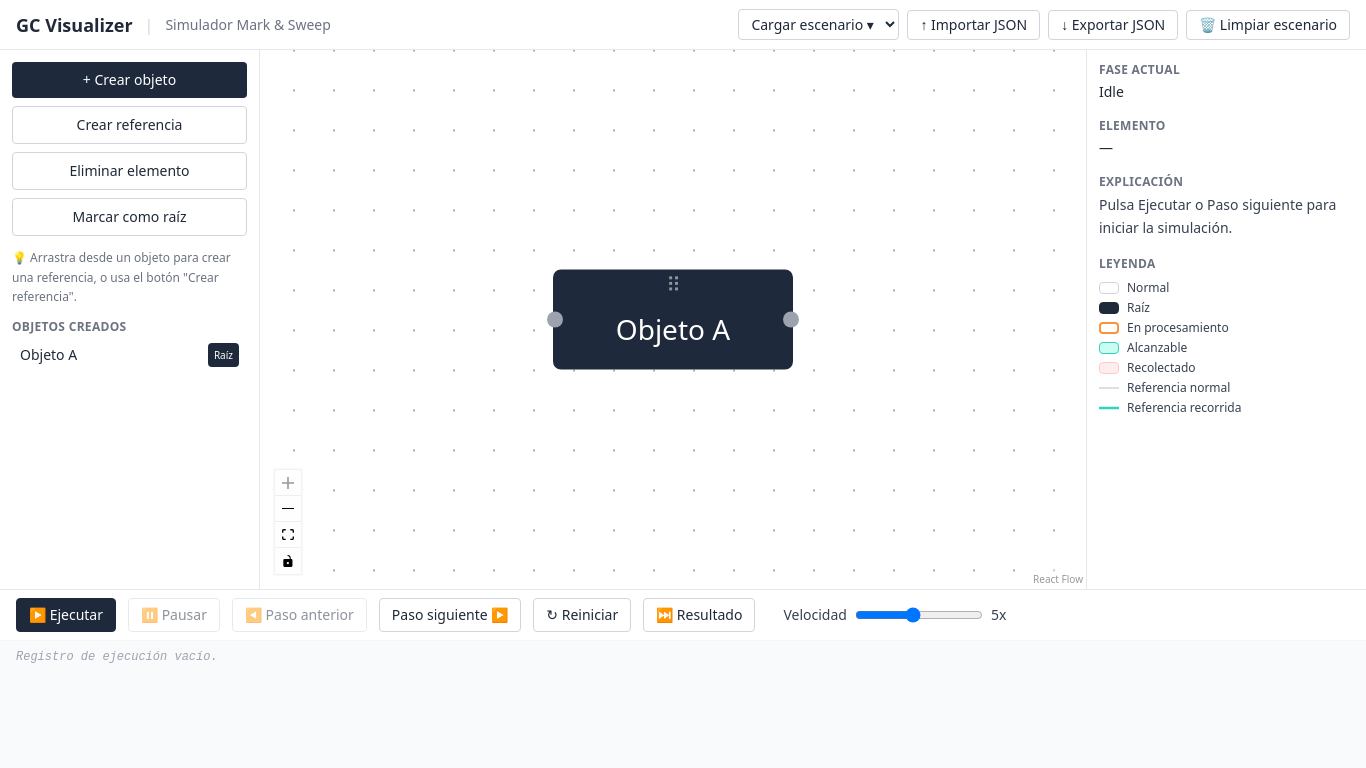
it: GC Visualizer — End-to-End › TC-E-03: editar etiqueta con doble clic y bloqueo durante simulación
The width and height of the screenshot is (1366, 768).
Expected: the element with test id "graph-canvas" is shown, [260,50,1086,589]
Double-click the element with test id "node-A" at coordinates (673, 320), box [553,270,793,370]
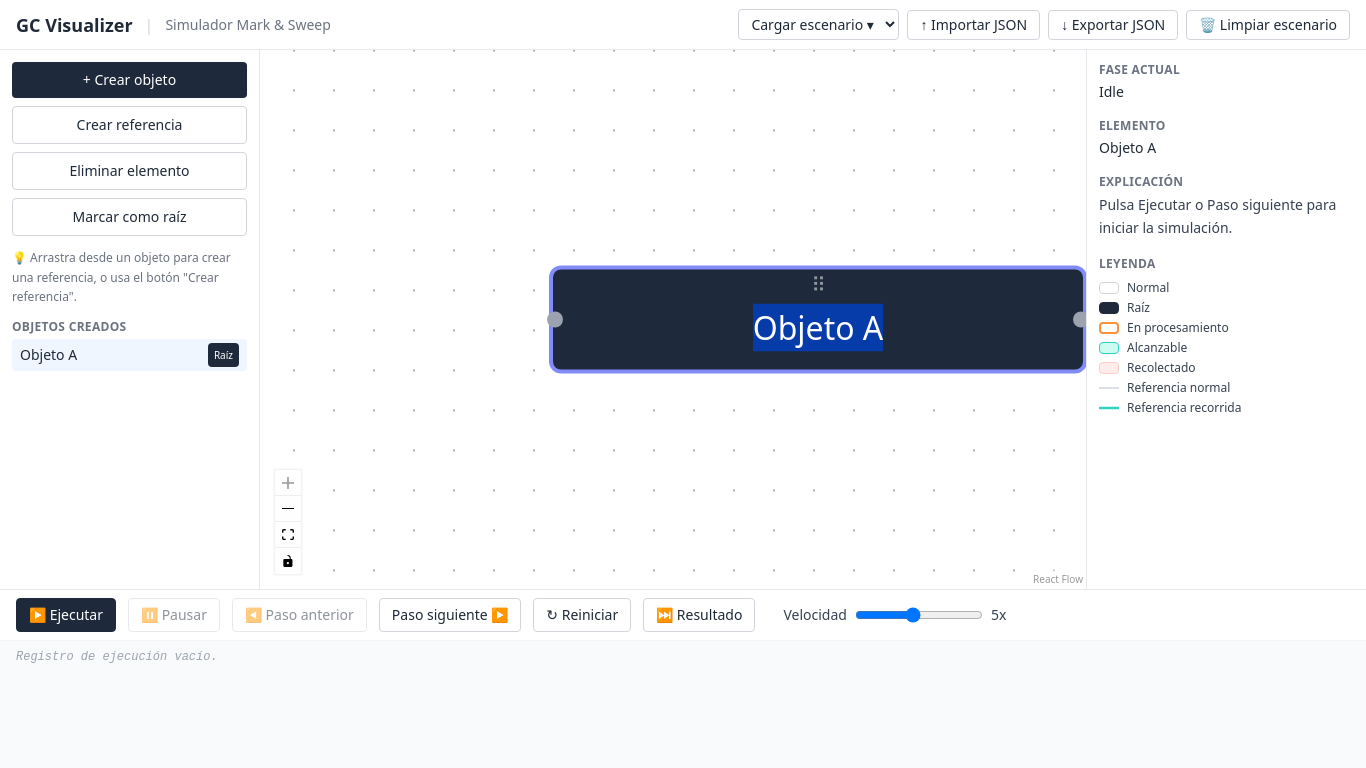
Expected: the field is shown
Replace the text in the field with "Nodo modificado" at coordinates (818, 328), box [587,304,1049,352]
Then press Enter
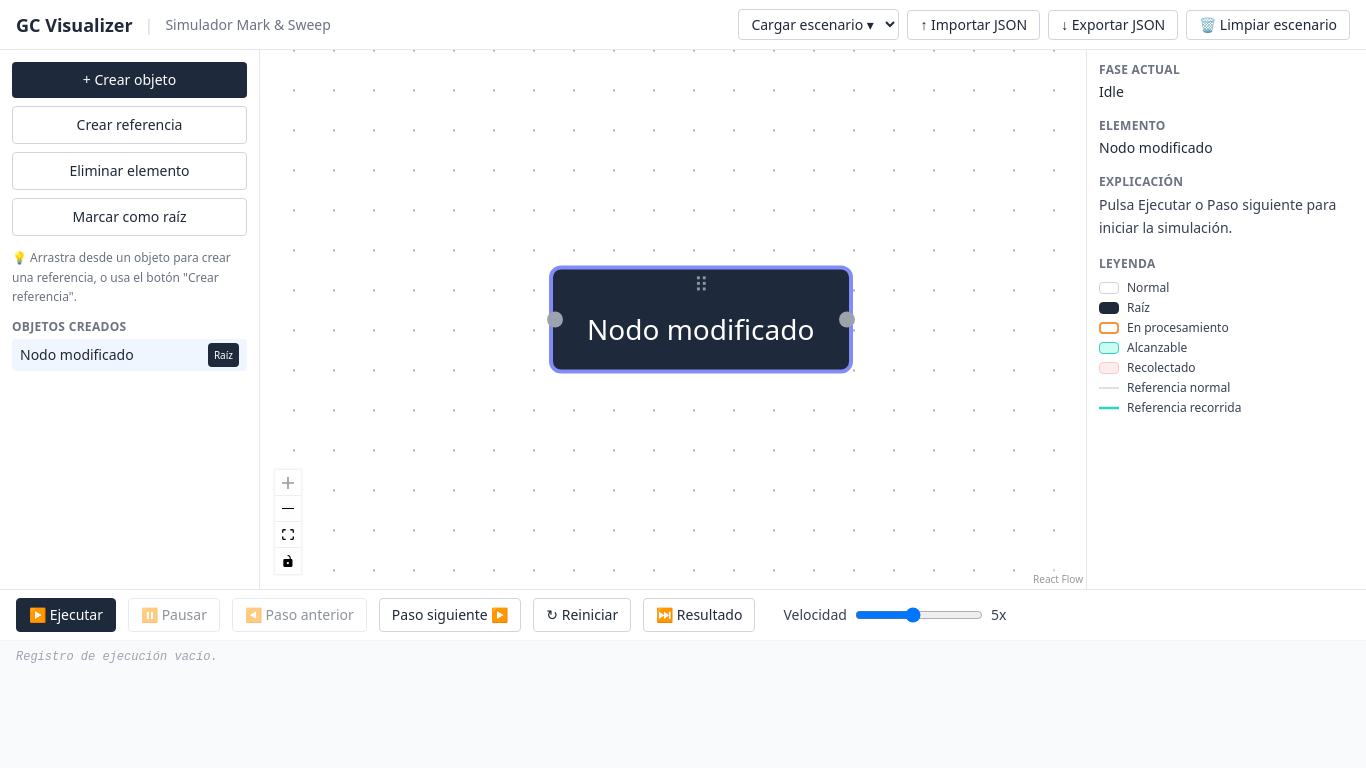
Expected: the text with test id "node-A" reads "Nodo modificado", [587,310,814,348]
Click the button with test id "btn-ejecutar" at coordinates (66, 615), box [16,598,116,632]
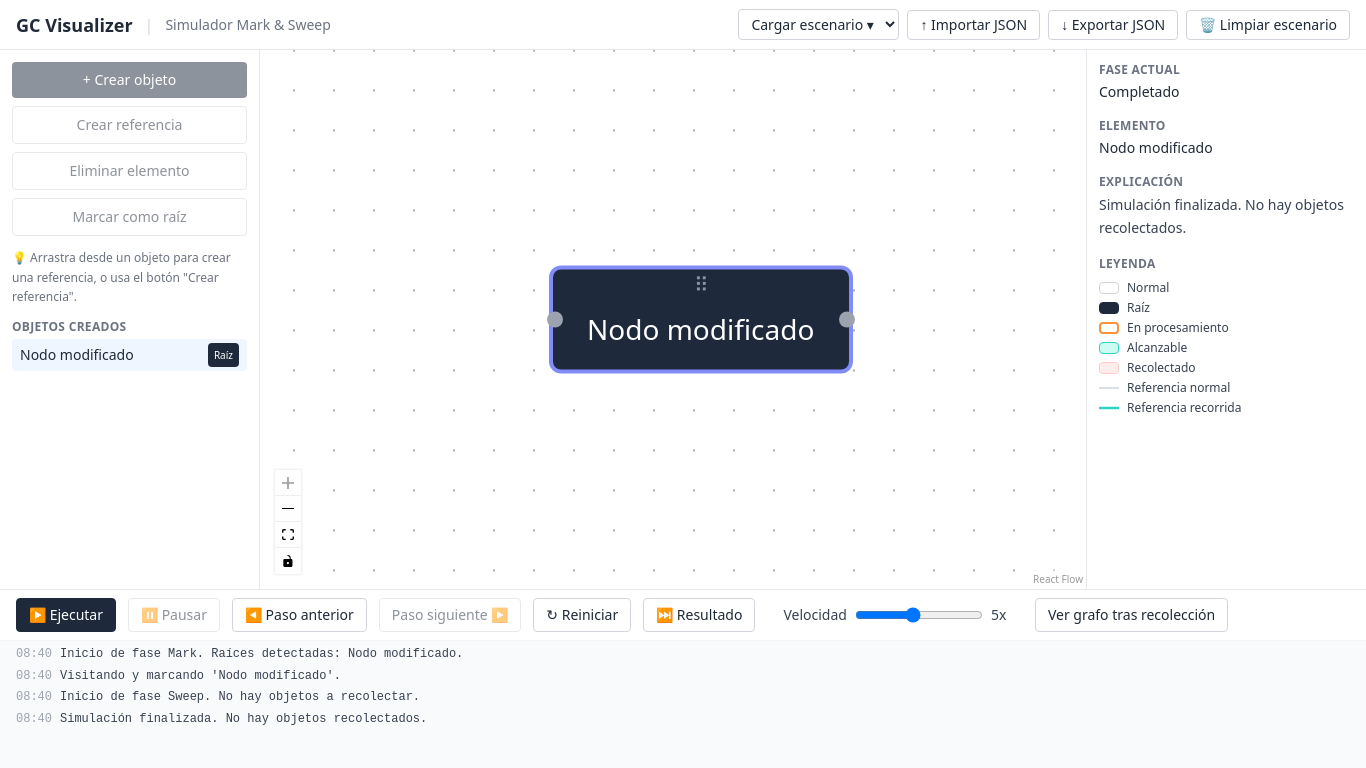
Expected: the text with test id "info-fase-actual" reads "Completado", [1099,82,1180,101]
Double-click the element with test id "node-A" at coordinates (701, 320), box [553,270,848,370]
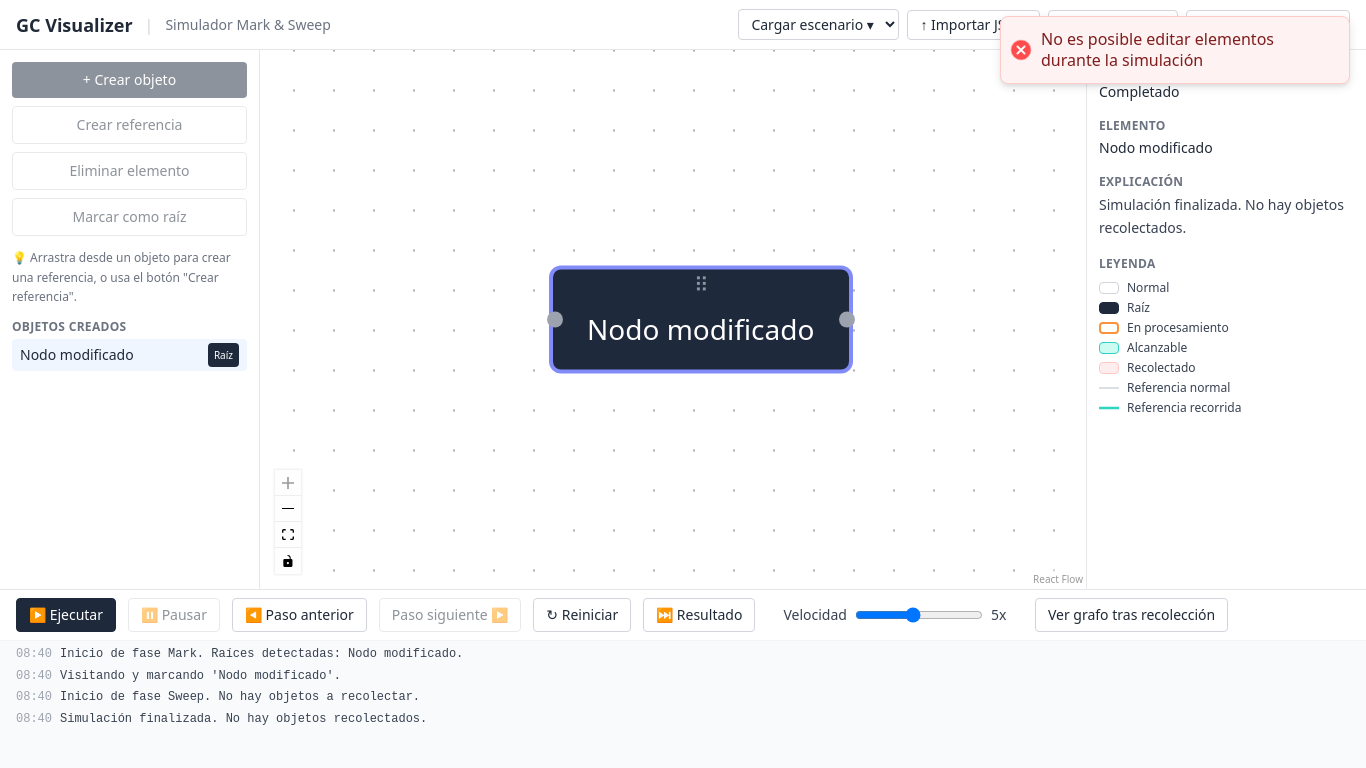
Expected: the text "No es posible editar elementos durante la simulación" is shown, [1041,28,1274,71]
